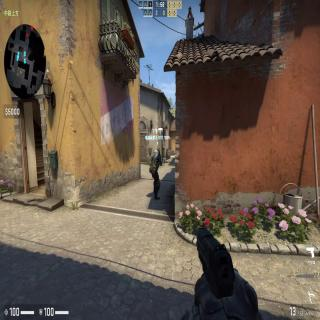CT-Body: (149, 147, 162, 201)
